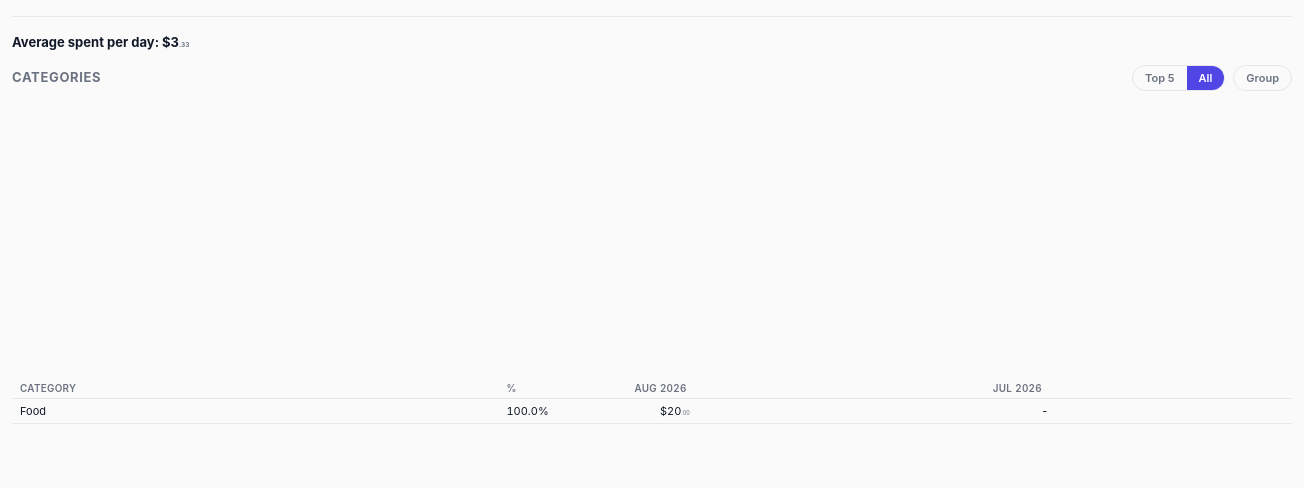
Test case: MonthDetailsPanel — controls › uses the selected date display format for transaction rows
Click the button "Food" at (33, 411), box [12,401,490,421]
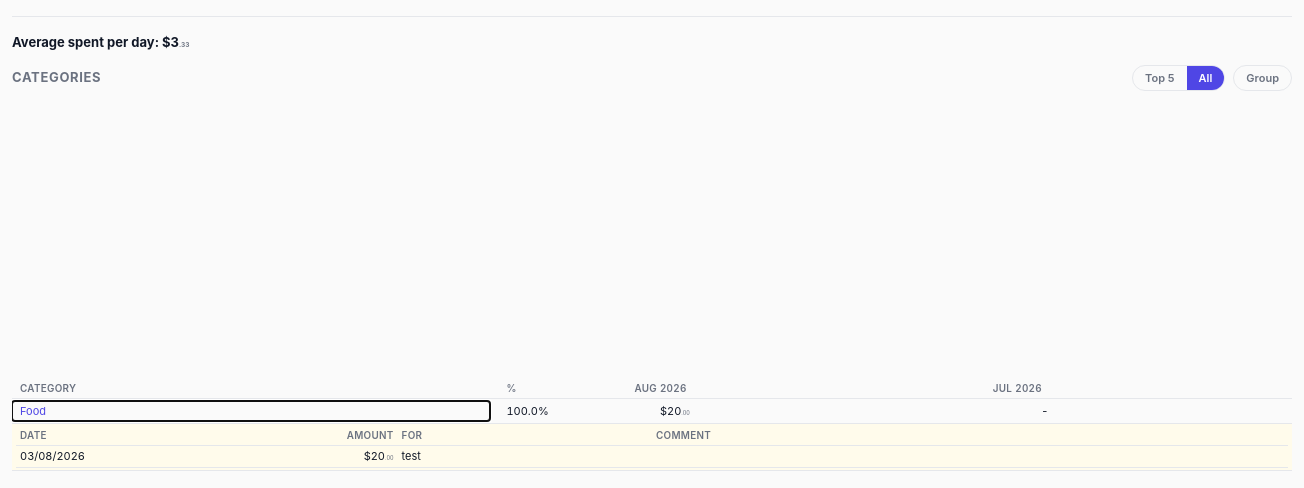
Now the cell "03/08/2026" is shown, box [16,446,207,467]
